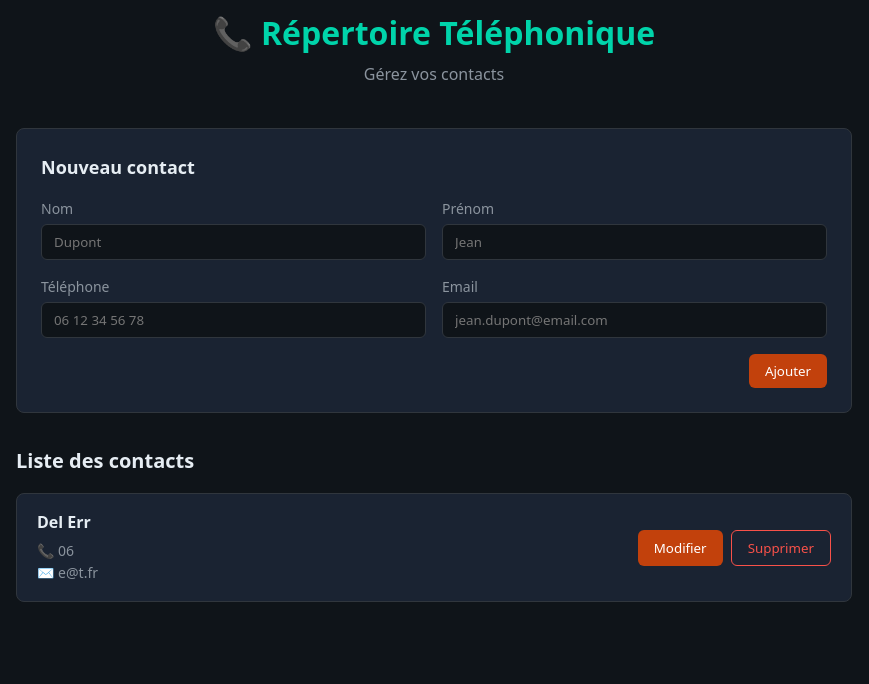
App › affiche une erreur si la suppression échoue
Check: the heading "Del Err" is shown, box [37,510,98,536]
Click the button "Supprimer" at (781, 548), box [731,530,831,566]
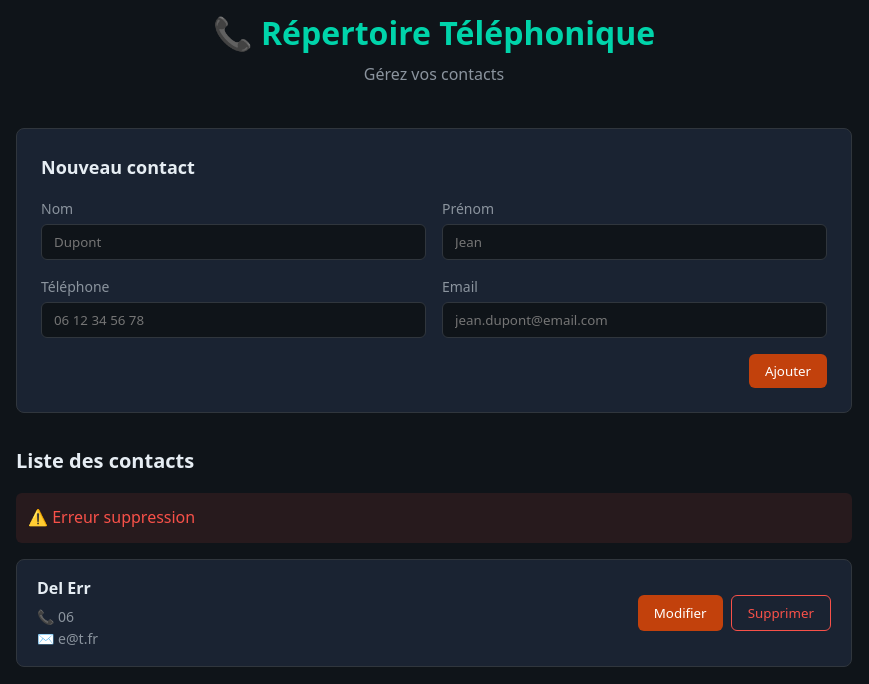
Check: the text "⚠️ Erreur suppression" is shown, box [16,493,852,543]
